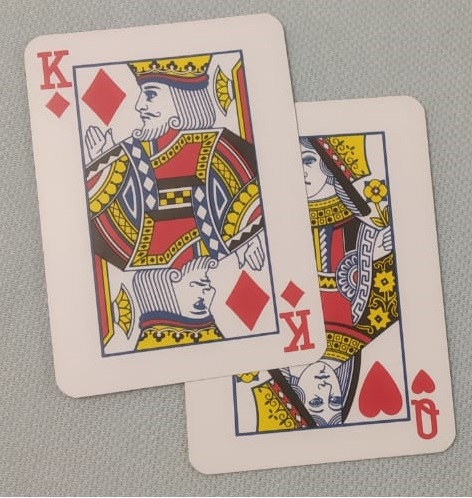king: (21, 9, 331, 396)
queen: (167, 91, 461, 481)
